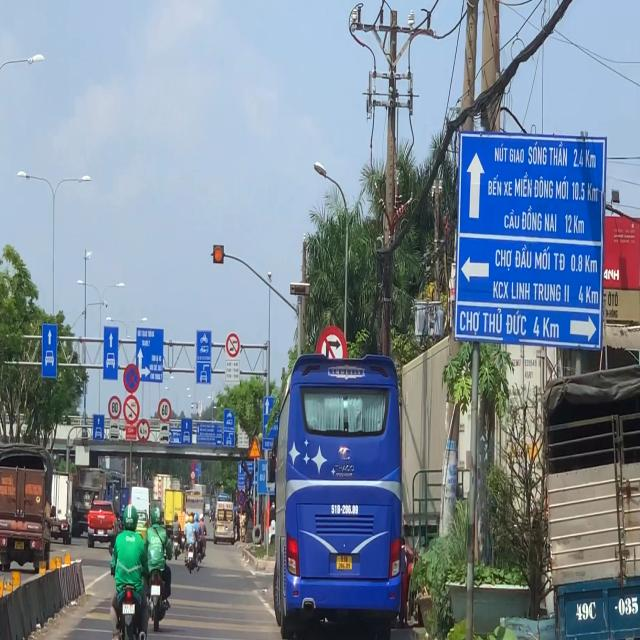Cam dung va do: (123, 363, 140, 394), (238, 490, 245, 506)
Cam re phai: (317, 326, 347, 380)
Chieu cao toi da: (137, 418, 150, 442)
Nguy hiem: (248, 438, 261, 459)
Toc do toi da: (158, 398, 172, 423), (108, 396, 122, 420)
